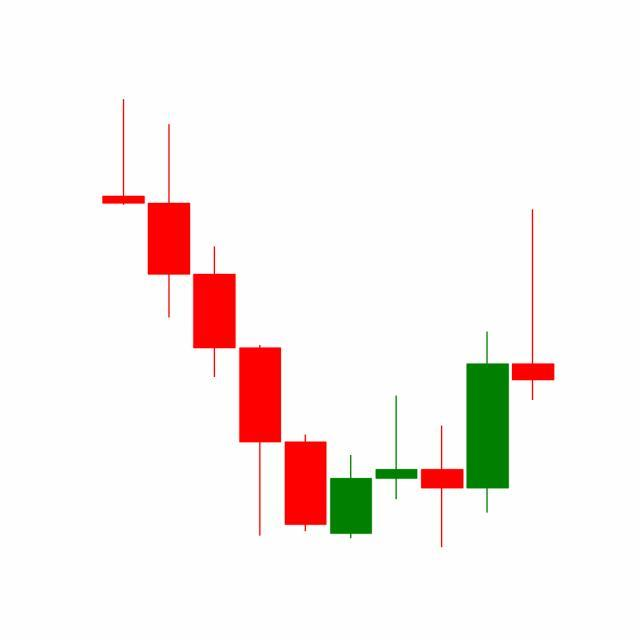Hikkake Pattern: (283, 328, 512, 549)
